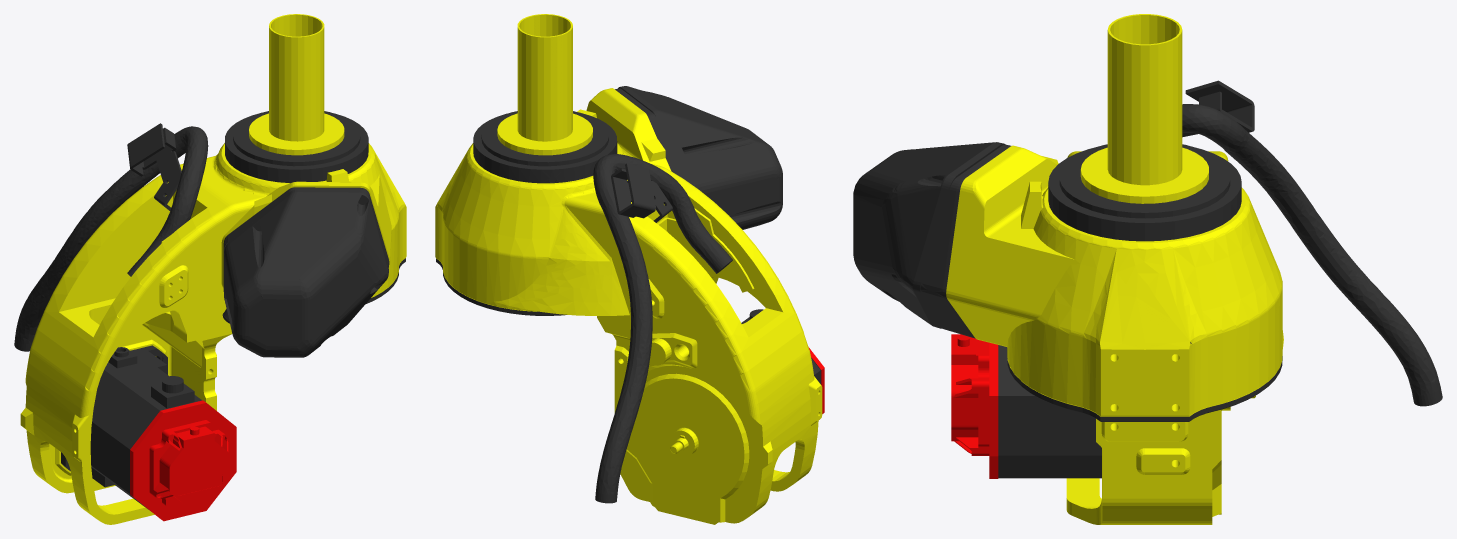
3 views of the same model, side by side, from view 1: azimuth 30°, elevation 25°; view 2: azimuth 150°, elevation 25°; view 3: azimuth 270°, elevation 25° (orthographic). The views are drawn at different scales.
Visible parts, largest first — view 1: node; view 2: node; view 3: node.
Part boxes in pixels (x1,y1,x2,y2): node: (14, 14, 406, 524); node: (435, 14, 824, 524); node: (853, 14, 1442, 524).
Size of the model in its own units: 434 by 521 by 482.
